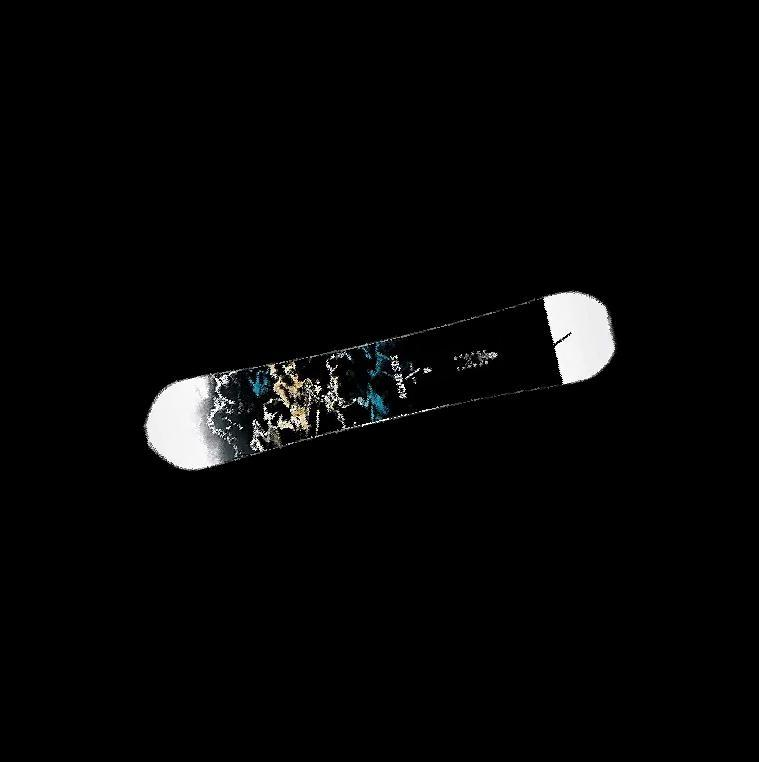Snowboard: (117, 276, 634, 528)
